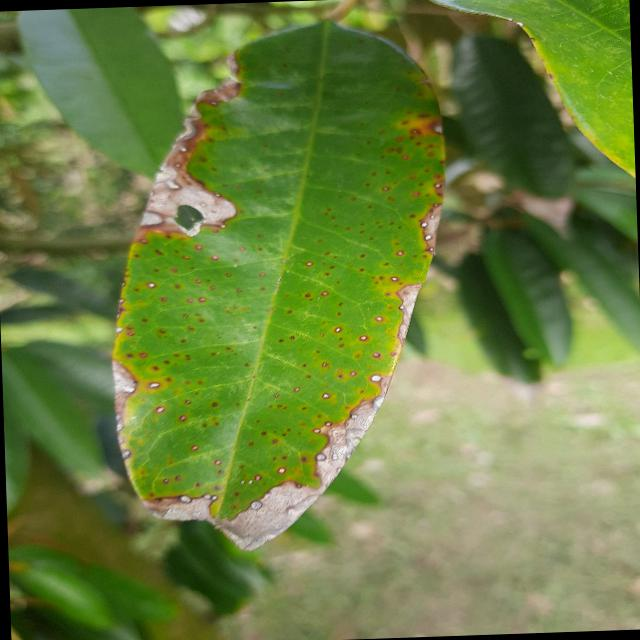Leaf Spot: (94, 9, 470, 562)
